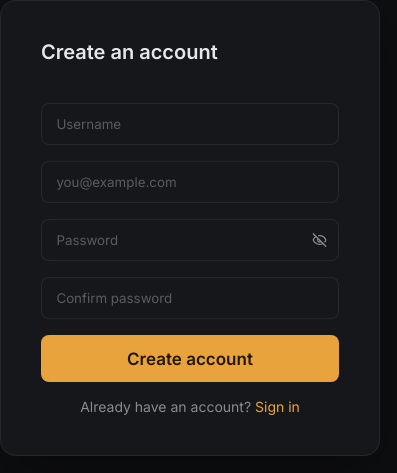
Test: RegisterForm › disables the button and shows "Creating account…" while the request is in flight
Type "alice" into the field with placeholder "Username" at x=190, y=124, box [41, 103, 339, 145]
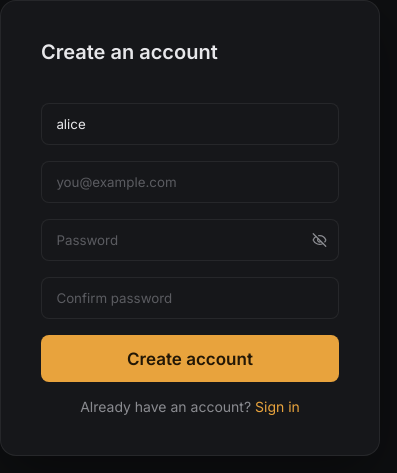
Type "alice@example.com" into the field with placeholder "you@example.com" at x=190, y=182, box [41, 161, 339, 203]
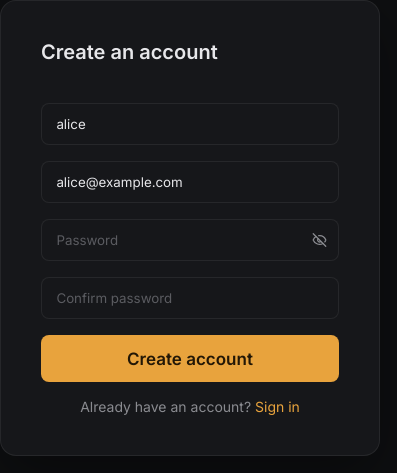
Type "Password123!" into the password field with placeholder "Password" at x=190, y=240, box [41, 219, 339, 261]
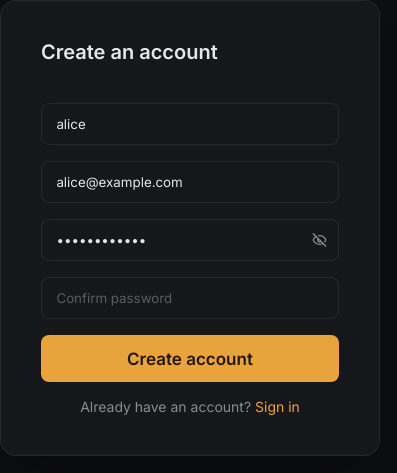
Type "Password123!" into the password field with placeholder "Confirm password" at x=190, y=298, box [41, 277, 339, 319]
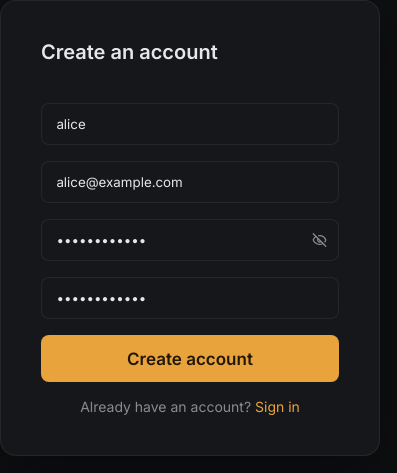
Submit the form, box [41, 41, 339, 415]
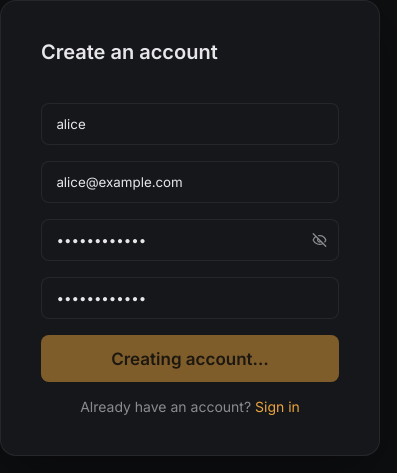
Expected: the submit button is disabled, [41, 335, 339, 382]
Expected: the submit button reads "Creating account…", [41, 335, 339, 382]
